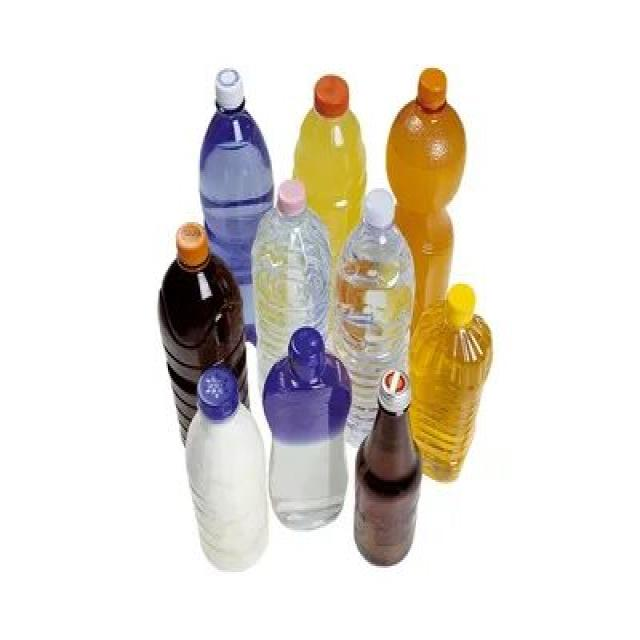brown: (352, 405, 423, 563), (160, 258, 251, 377)
